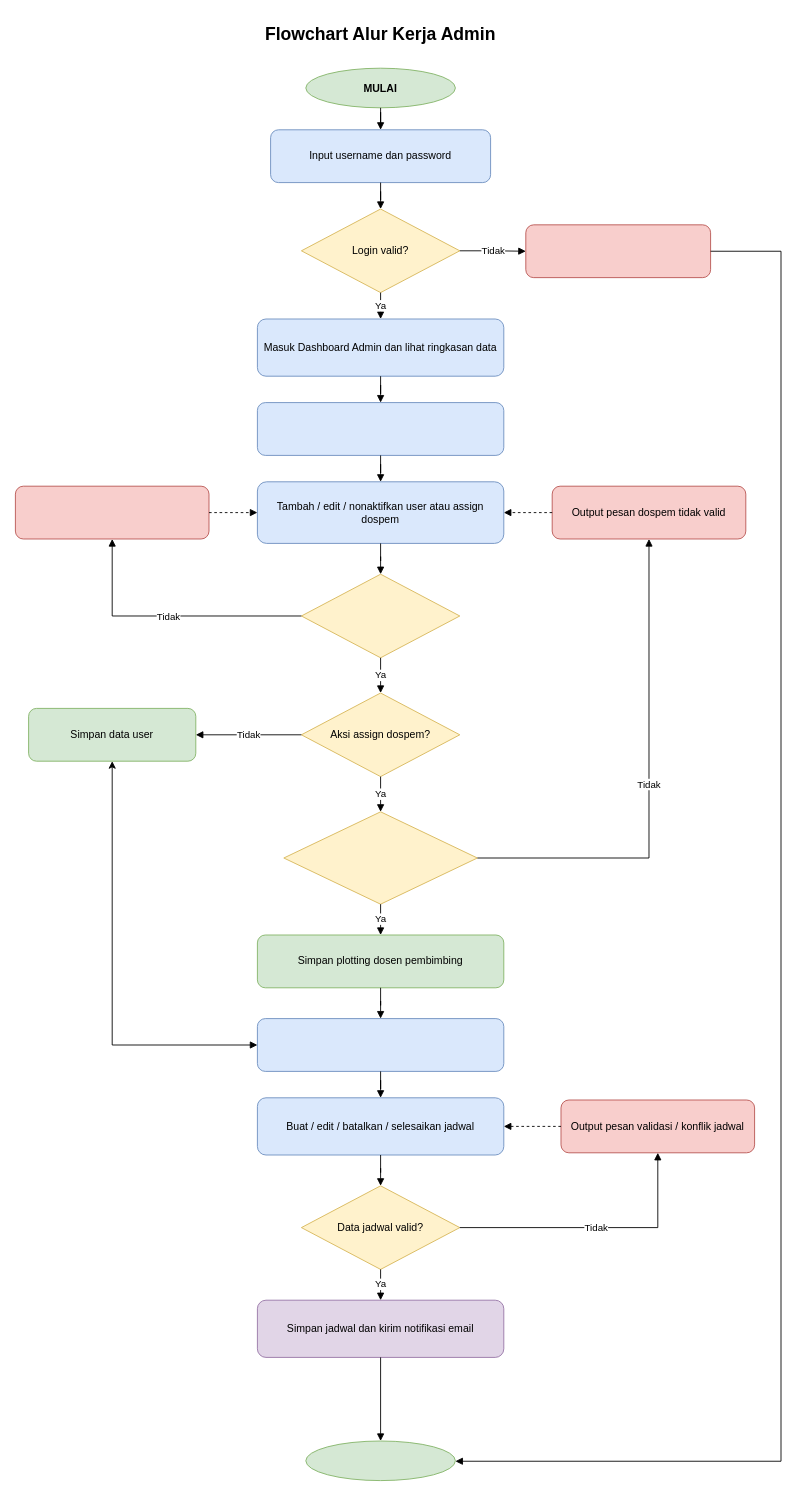
This 803x1496 diagram has some shape labels left out. The shapes that lost their labels are listed below. From the top down, each one's centre as x and y in pixels, then its label:
At pixel 618 251: "Output pesan login gagal".
At pixel 380 428: "Buka Manajemen User".
At pixel 112 512: "Output pesan validasi user".
At pixel 380 615: "Data user valid?".
At pixel 380 857: "Dospem valid dan tidak sama?".
At pixel 380 1044: "Buka Kelola Jadwal Sidang".
At pixel 380 1460: "SELESAI".
